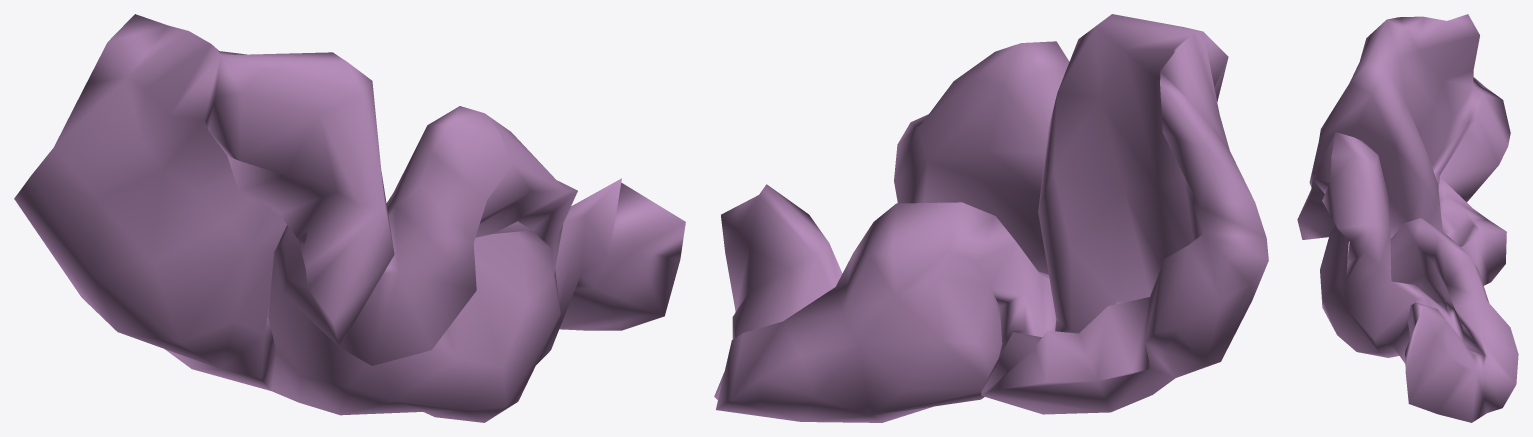
3 renders of one model, left to right at view 1: azimuth 30°, elevation 25°; view 2: azimuth 150°, elevation 25°; view 3: azimuth 270°, elevation 25°, orthographic. The views are drawn at different scales.
Parts seen in each view (by area): view 1: 右侧额缘回与额缘沟; view 2: 右侧额缘回与额缘沟; view 3: 右侧额缘回与额缘沟.
Part boxes in pixels (x1,y1,x2,y2): 右侧额缘回与额缘沟: [14, 14, 685, 422]; 右侧额缘回与额缘沟: [714, 14, 1268, 422]; 右侧额缘回与额缘沟: [1297, 14, 1518, 422].
Size of the model in its own units: 0.0585 by 0.0395 by 0.029.
